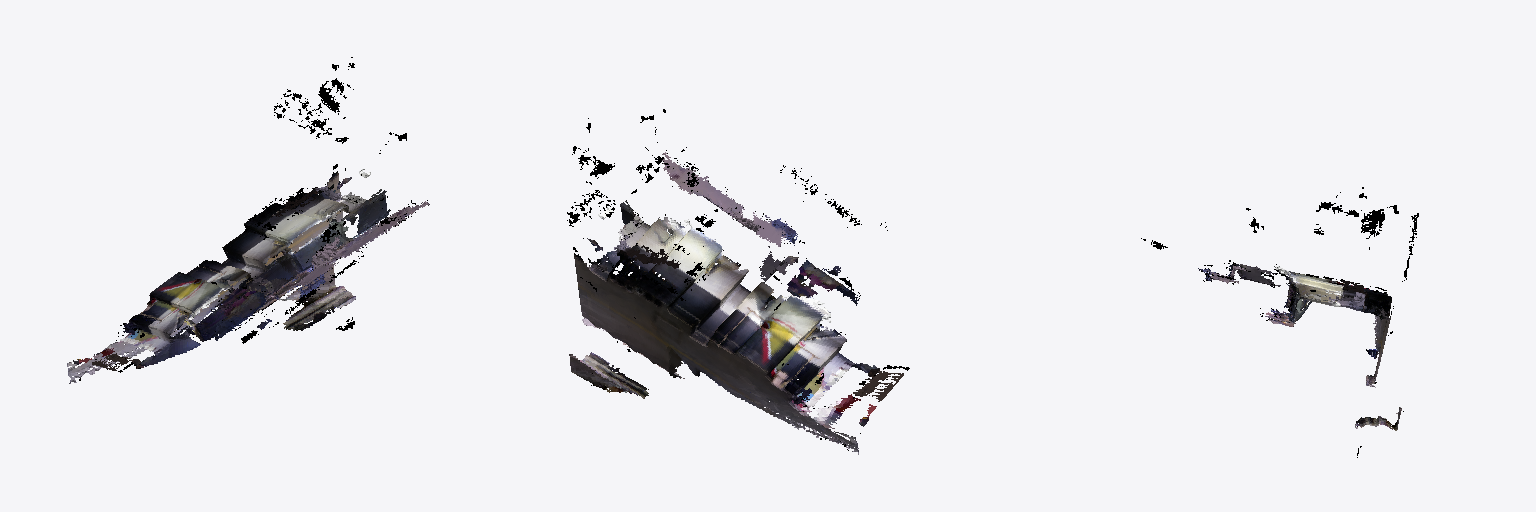
3 renders of one model, left to right at view 1: azimuth 30°, elevation 25°; view 2: azimuth 150°, elevation 25°; view 3: azimuth 270°, elevation 25°, orthographic.
Bounding box in the file's own units: 12 × 11.16 × 10.41.
Materials: 1 (1 with a texture image).